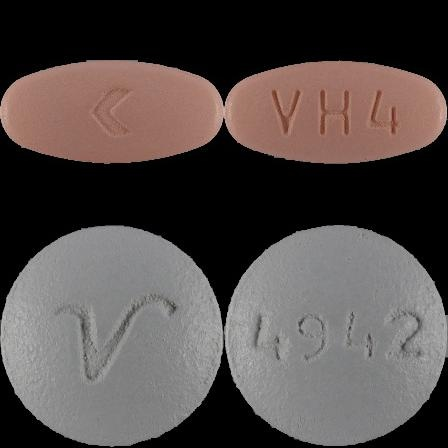52125-763: (0, 0, 224, 224)
